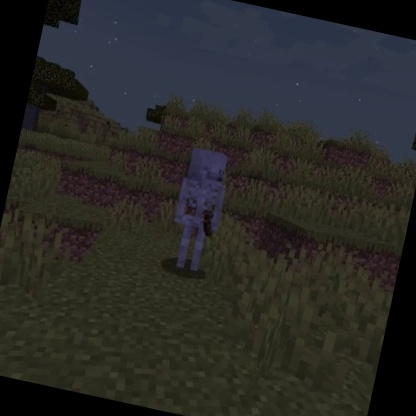skeleton: (159, 141, 240, 279)
